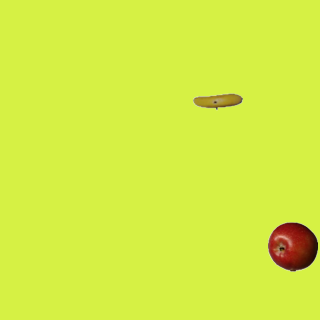Apple Braeburn: (267, 221, 317, 271)
Banana: (192, 76, 242, 126)
